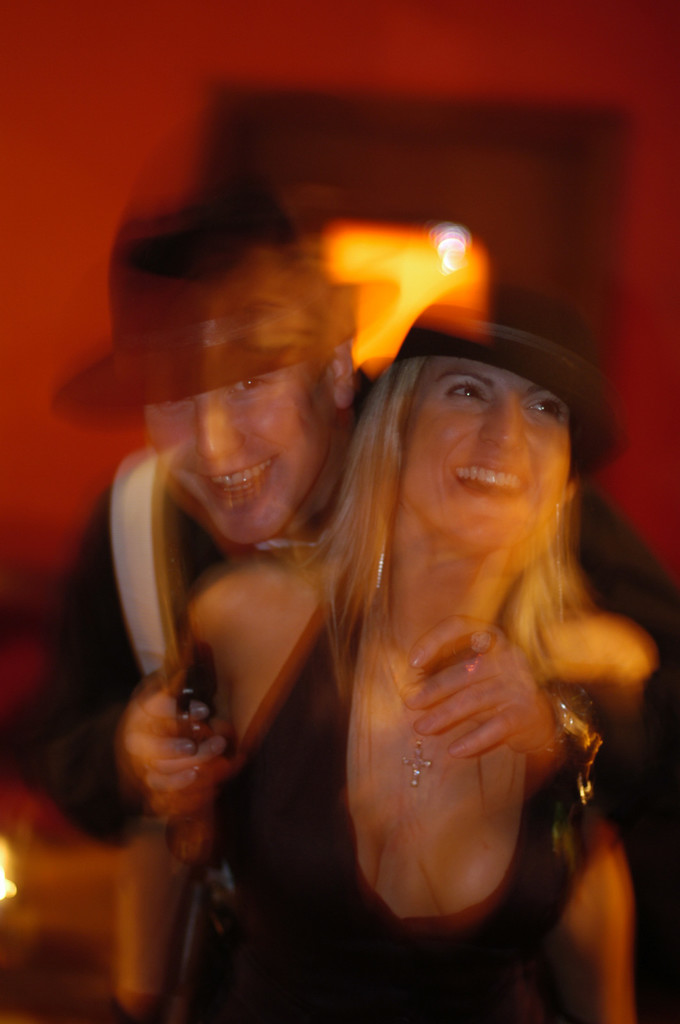Human-face: (148, 362, 349, 540), (379, 348, 569, 526)
